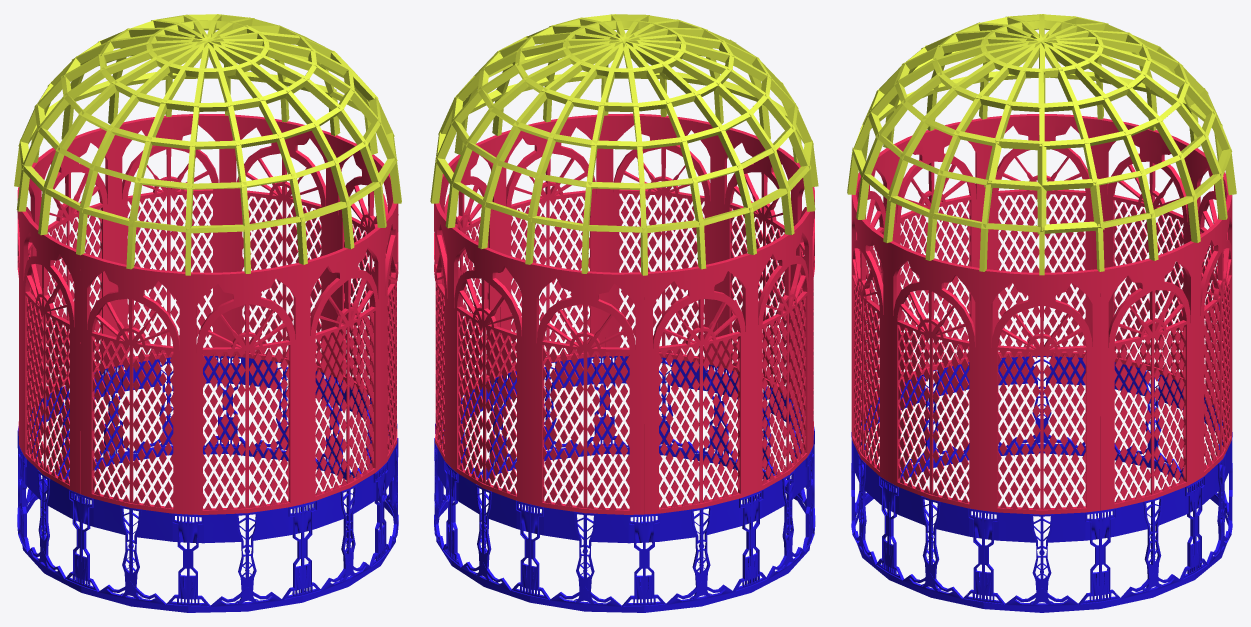
The model's file is BirdCaseMultiModel.fbx.
3 views of the same model, side by side, from view 1: azimuth 30°, elevation 25°; view 2: azimuth 150°, elevation 25°; view 3: azimuth 270°, elevation 25° (orthographic).
Visible parts, largest first — view 1: Rectangle114, Shape011, Arc013; view 2: Rectangle114, Shape011, Arc013; view 3: Rectangle114, Shape011, Arc013.
Boxes of the visible parts, x1,y1,x2,y2 form: Rectangle114: (17, 114, 398, 514); Shape011: (14, 14, 401, 275); Arc013: (17, 356, 398, 612); Rectangle114: (434, 113, 814, 514); Shape011: (430, 14, 818, 275); Arc013: (434, 356, 815, 612); Rectangle114: (851, 114, 1232, 514); Shape011: (847, 14, 1236, 275); Arc013: (851, 356, 1232, 612).
Size of the model in its own units: 395 by 554 by 396.
